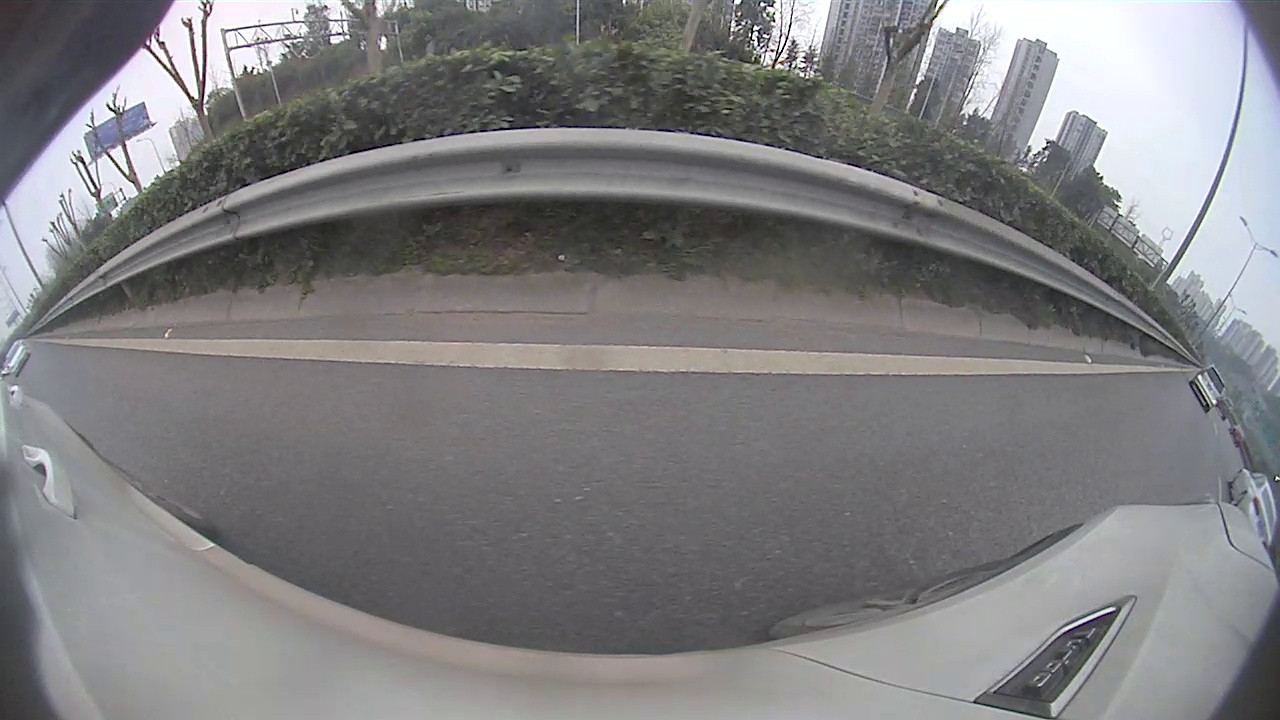car: (1229, 470, 1277, 550), (1191, 366, 1227, 414), (4, 340, 30, 375)
